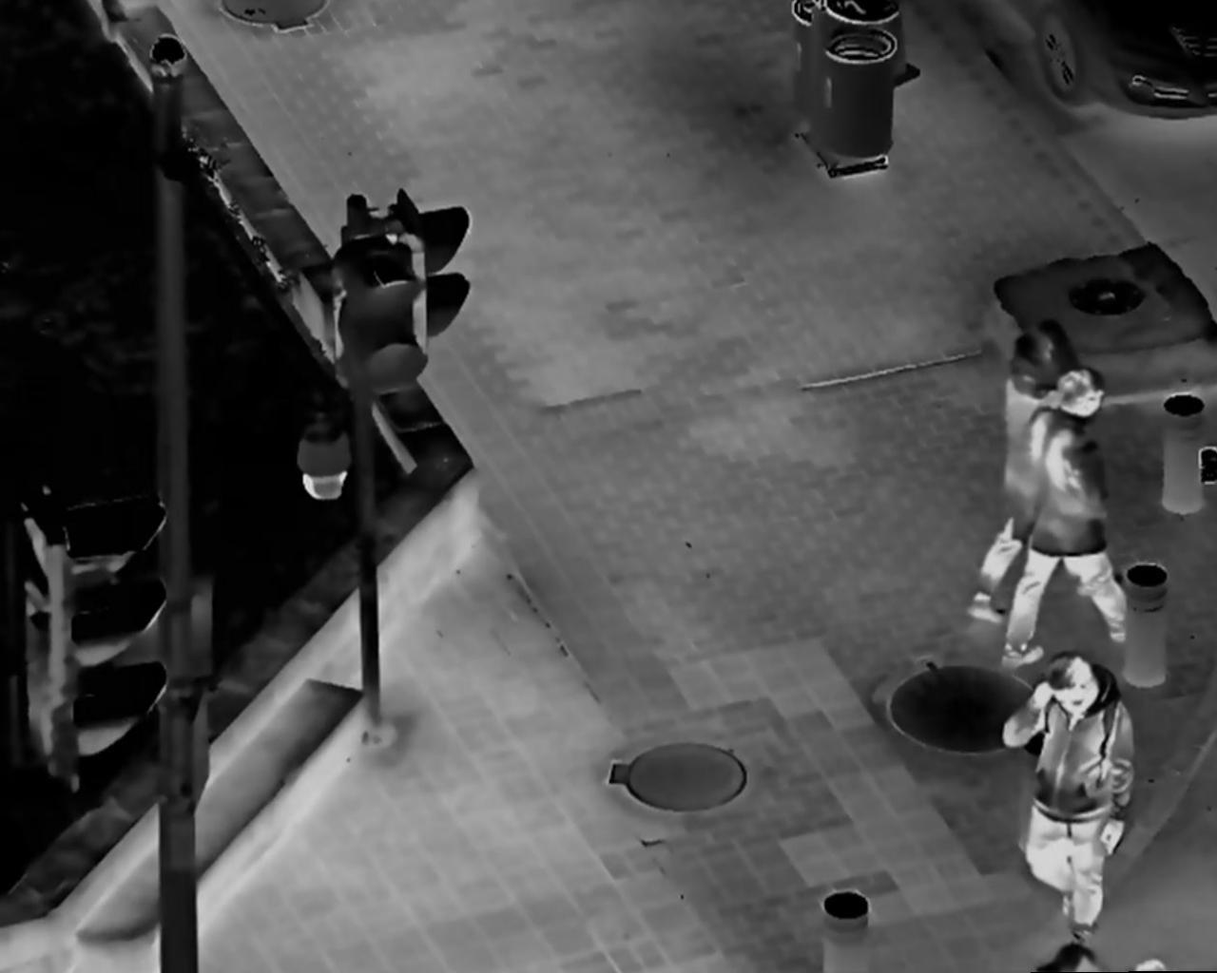person: (967, 315, 1118, 621), (1001, 652, 1139, 973), (1004, 366, 1130, 670)
